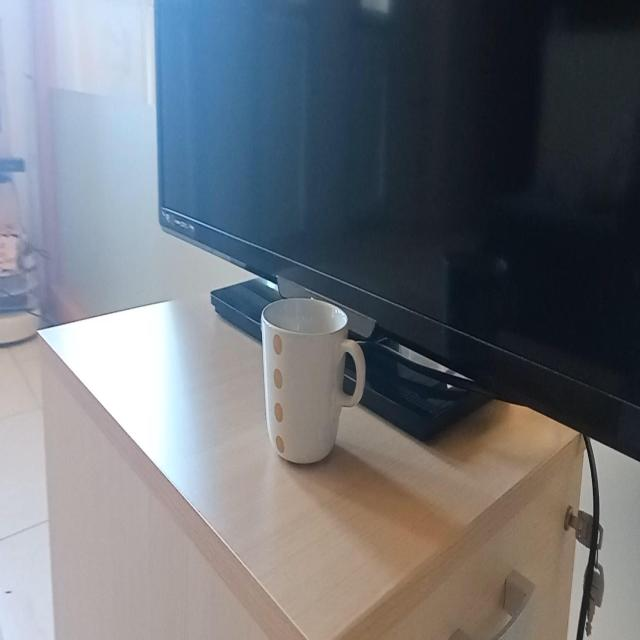cup: (256, 293, 371, 476)
